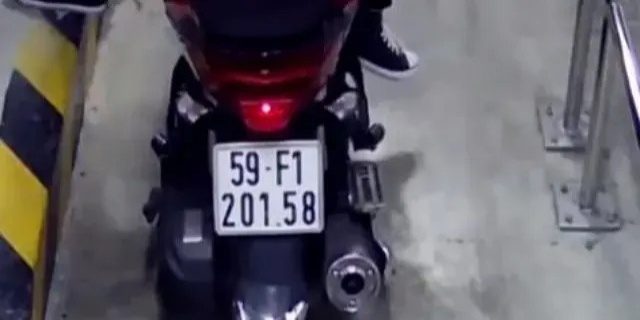bien_so: (212, 140, 325, 235)
